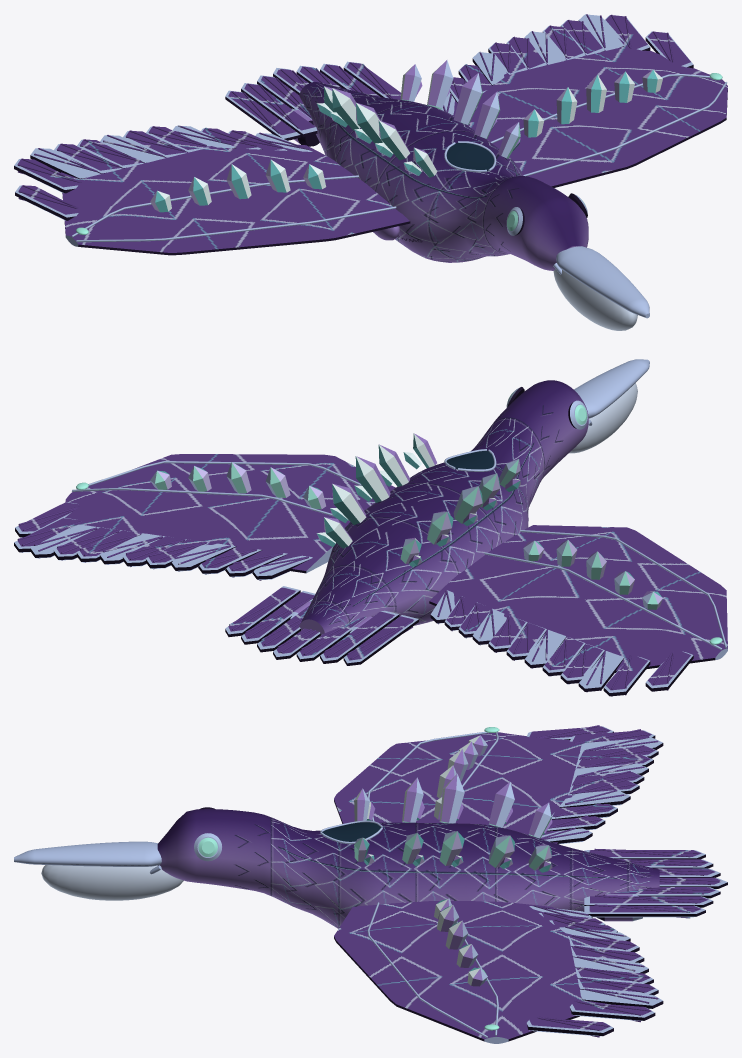
3 renders of one model, top to bottom at view 1: azimuth 30°, elevation 25°; view 2: azimuth 150°, elevation 25°; view 3: azimuth 270°, elevation 25°, orthographic. The views are drawn at different scales.
Visible parts, largest first — view 1: pelican_hull; view 2: pelican_hull; view 3: pelican_hull.
Boxes of the visible parts, <box> form: pelican_hull: <box>14,14,727,330</box>; pelican_hull: <box>14,359,727,696</box>; pelican_hull: <box>14,725,727,1043</box>.
Size of the model in its own units: 86 by 17.59 by 84.67.
Materials: 1 (1 with a texture image).
